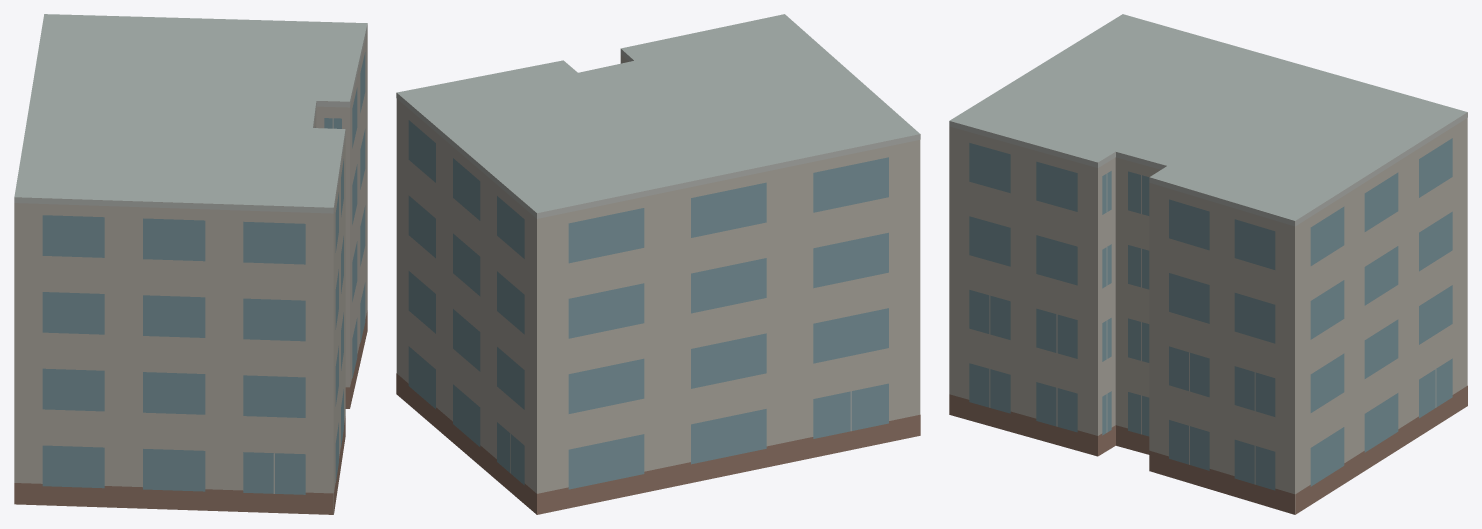
File: survey-upis-32608231.glb
The picture shows the model from 3 angles, left to right: view 1: azimuth 30°, elevation 25°; view 2: azimuth 150°, elevation 25°; view 3: azimuth 270°, elevation 25°; orthographic projection. The views are drawn at different scales.
Parts seen in each view (by area): view 1: survey-upis-32608231.tmp; view 2: survey-upis-32608231.tmp; view 3: survey-upis-32608231.tmp.
Part boxes in pixels (left/top/right/bottom): survey-upis-32608231.tmp: left=14, top=14, right=367, bottom=514; survey-upis-32608231.tmp: left=396, top=14, right=920, bottom=514; survey-upis-32608231.tmp: left=949, top=14, right=1467, bottom=514.
Bounding box in the file's own units: 19.5 × 12.9 × 20.64.
